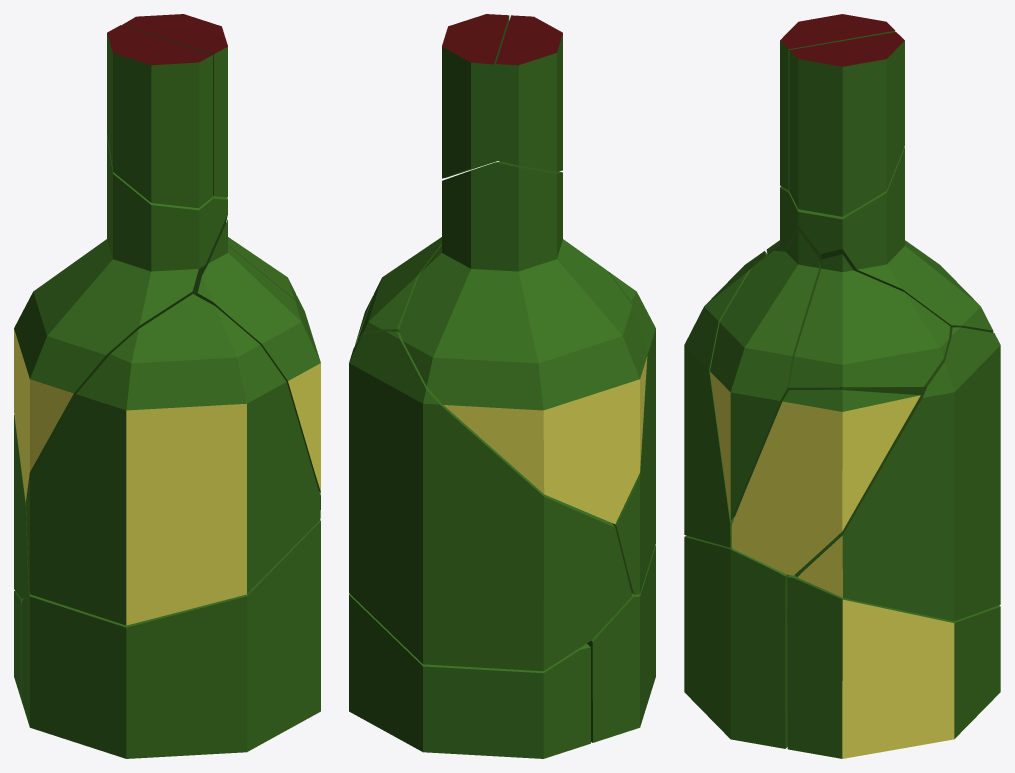
File: pandemonium_wine_bottle_fractured.fbx
3 renders of one model, left to right at view 1: azimuth 30°, elevation 25°; view 2: azimuth 150°, elevation 25°; view 3: azimuth 270°, elevation 25°, orthographic.
Parts seen in each view (by area): view 1: Cylinder_cell.003, Cylinder_cell.009, Cylinder_cell.004, Cylinder_cell.002, Cylinder_cell.001, Cylinder_cell.005, Cylinder_cell, Cylinder_cell.007, Cylinder_cell.008; view 2: Cylinder_cell, Cylinder_cell.004, Cylinder_cell.008, Cylinder_cell.002, Cylinder_cell.005, Cylinder_cell.009, Cylinder_cell.003, Cylinder_cell.007; view 3: Cylinder_cell, Cylinder_cell.008, Cylinder_cell.006, Cylinder_cell.005, Cylinder_cell.009, Cylinder_cell.001, Cylinder_cell.007, Cylinder_cell.004, Cylinder_cell.003, Cylinder_cell.002.
Part boxes in pixels (bbox=[...]): Cylinder_cell.003: bbox=[26, 294, 320, 625]; Cylinder_cell.009: bbox=[22, 520, 320, 758]; Cylinder_cell.004: bbox=[14, 135, 227, 502]; Cylinder_cell.002: bbox=[107, 25, 212, 208]; Cylinder_cell.001: bbox=[196, 219, 320, 492]; Cylinder_cell.005: bbox=[122, 14, 227, 197]; Cylinder_cell: bbox=[14, 415, 28, 598]; Cylinder_cell.007: bbox=[228, 237, 306, 323]; Cylinder_cell.008: bbox=[14, 590, 23, 701]; Cylinder_cell: bbox=[349, 331, 632, 671]; Cylinder_cell.004: bbox=[398, 161, 647, 523]; Cylinder_cell.008: bbox=[349, 593, 590, 758]; Cylinder_cell.002: bbox=[496, 15, 562, 171]; Cylinder_cell.005: bbox=[442, 14, 509, 178]; Cylinder_cell.009: bbox=[587, 545, 655, 742]; Cylinder_cell.003: bbox=[607, 271, 655, 594]; Cylinder_cell.007: bbox=[357, 237, 441, 341]; Cylinder_cell: bbox=[795, 327, 1000, 621]; Cylinder_cell.008: bbox=[787, 575, 1000, 758]; Cylinder_cell.006: bbox=[731, 389, 920, 575]; Cylinder_cell.005: bbox=[789, 32, 904, 216]; Cylinder_cell.009: bbox=[684, 535, 788, 748]; Cylinder_cell.001: bbox=[710, 230, 839, 520]; Cylinder_cell.007: bbox=[789, 254, 950, 386]; Cylinder_cell.004: bbox=[766, 147, 993, 332]; Cylinder_cell.003: bbox=[684, 251, 840, 547]; Cylinder_cell.002: bbox=[780, 14, 895, 190].
Bounding box in the file's own units: 27.13 × 61.65 × 27.13.
